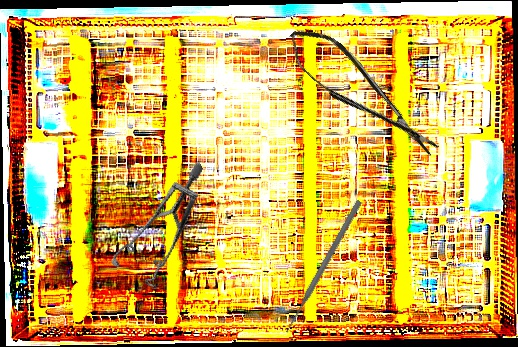Micro Scissor: (278, 14, 447, 173)
Pusher: (282, 198, 364, 335)
Speculum: (88, 159, 240, 301)
